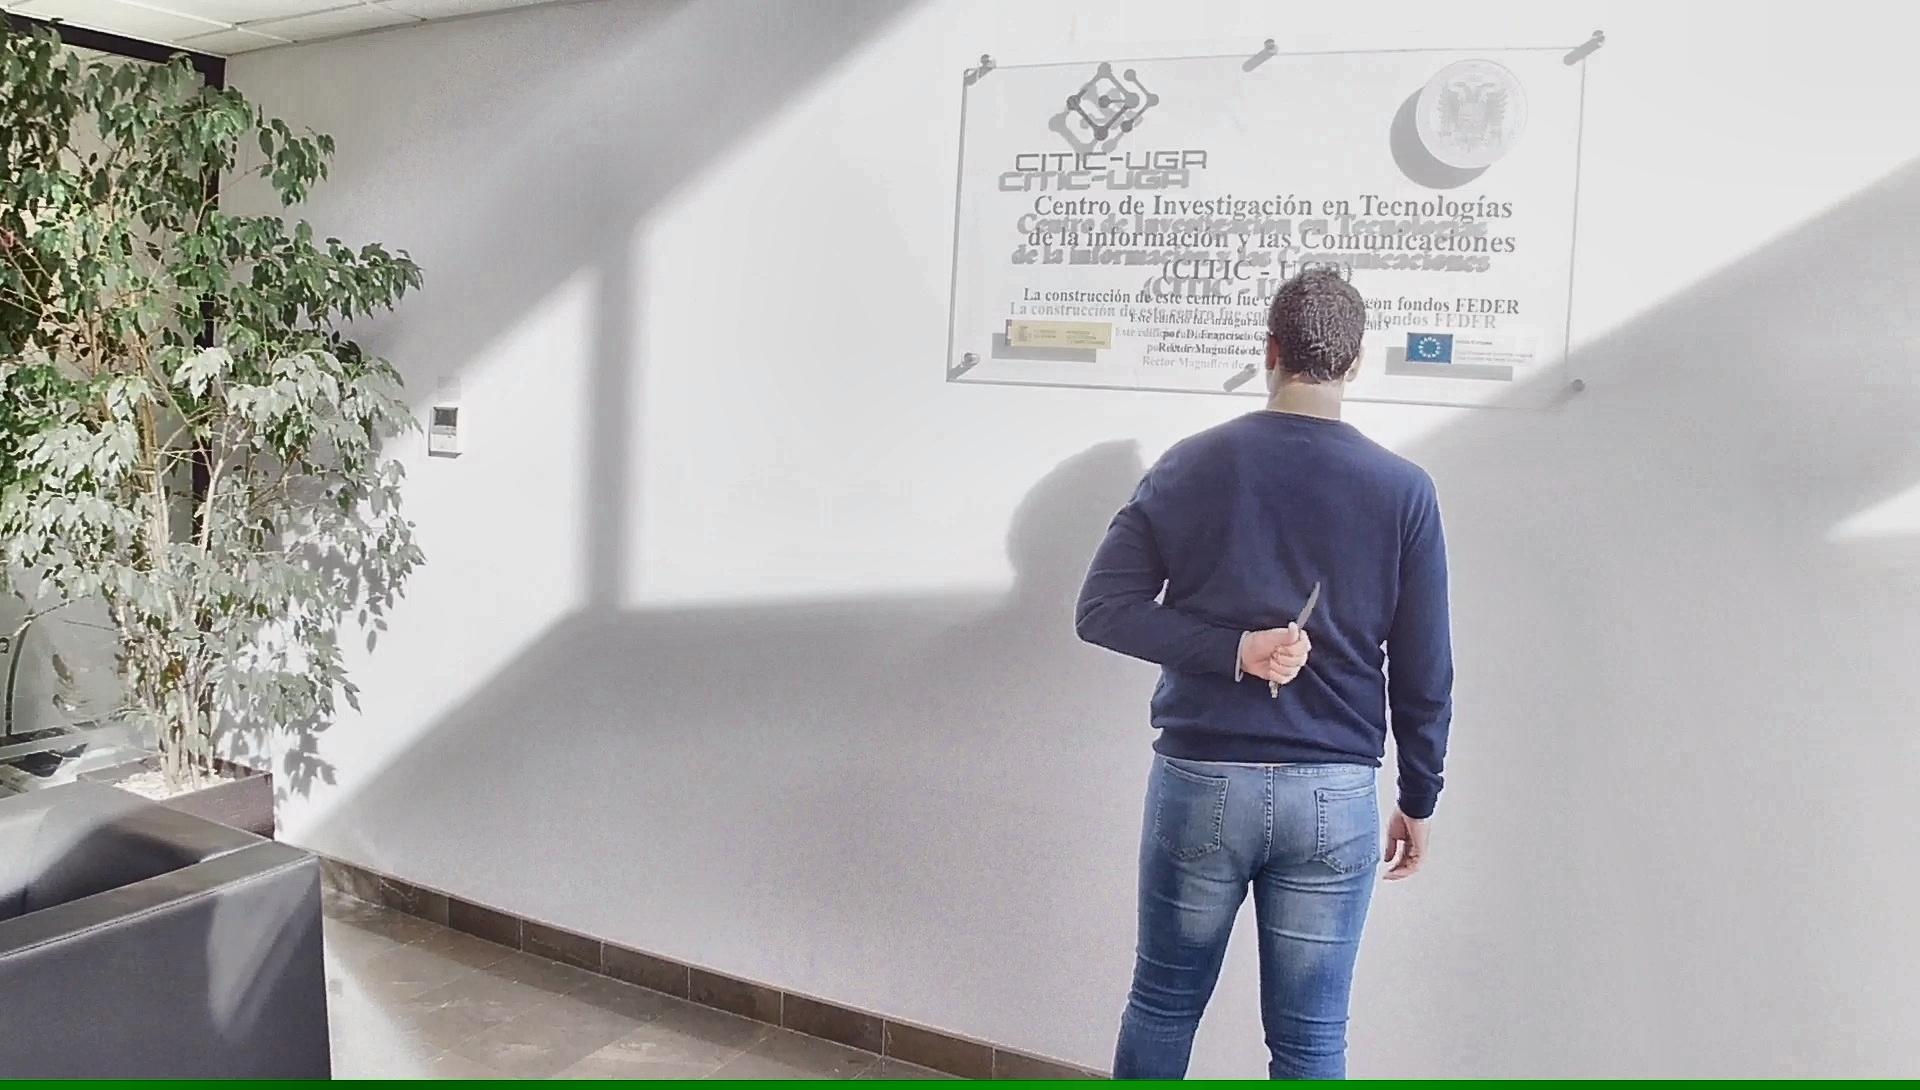knife: (1263, 569, 1333, 704)
